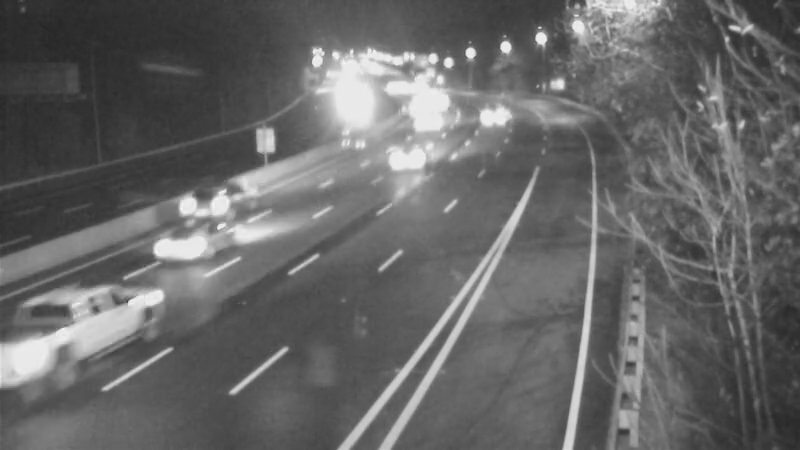vehicle: (1, 302, 99, 412), (368, 114, 448, 194), (155, 158, 235, 238), (153, 202, 233, 282), (391, 77, 441, 127), (464, 87, 514, 137), (412, 88, 462, 138)
